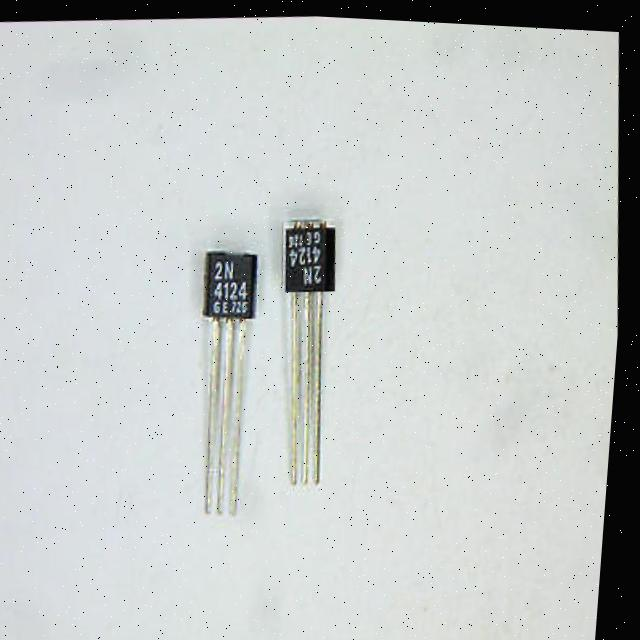Transistor: (198, 236, 269, 534), (280, 199, 348, 482)
